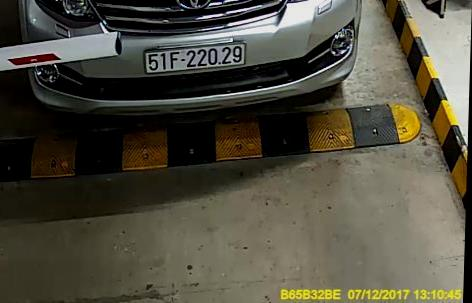License_Plate: (143, 43, 248, 74)
